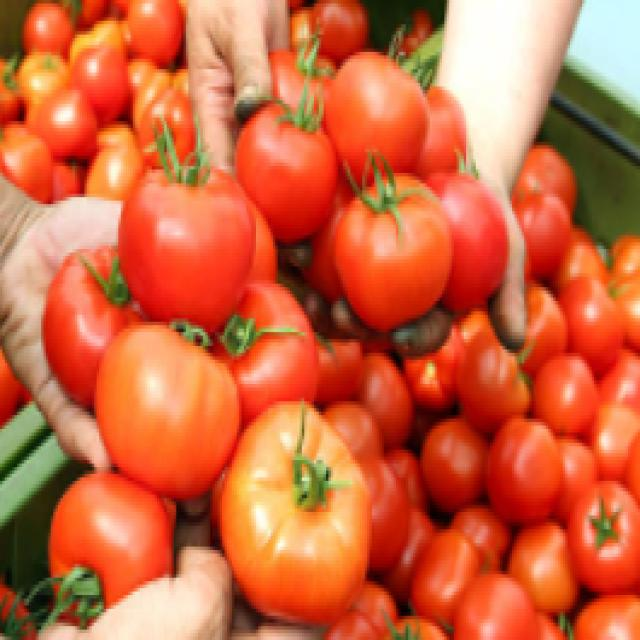Tomato: (213, 386, 380, 624), (128, 110, 255, 327), (339, 164, 469, 337)
